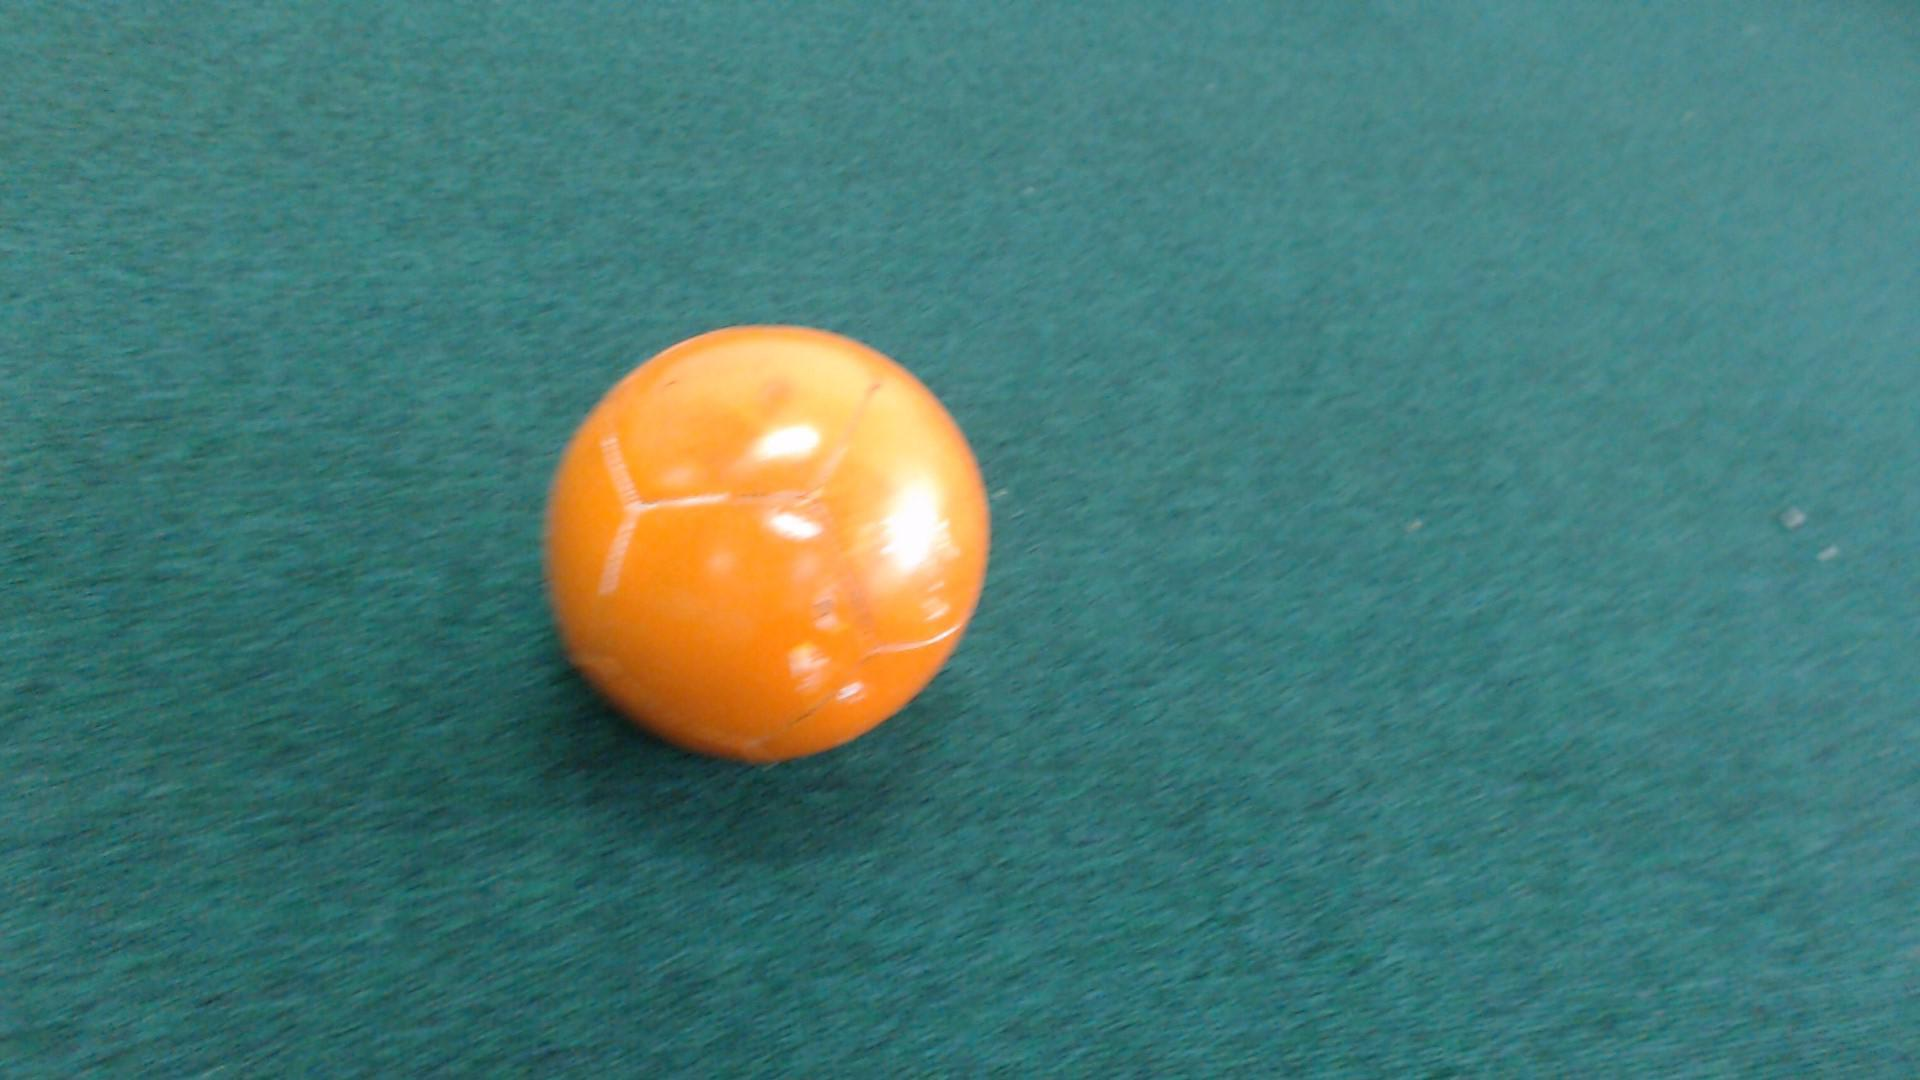bola: (514, 302, 1030, 796)
